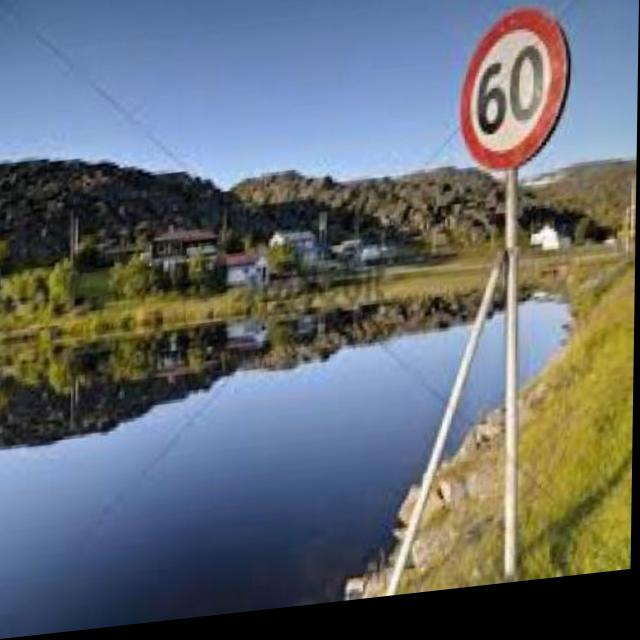limit60: (459, 14, 573, 184)
